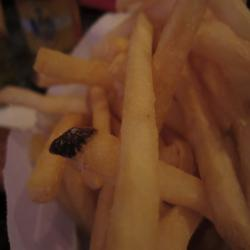fries: (78, 17, 242, 225)
